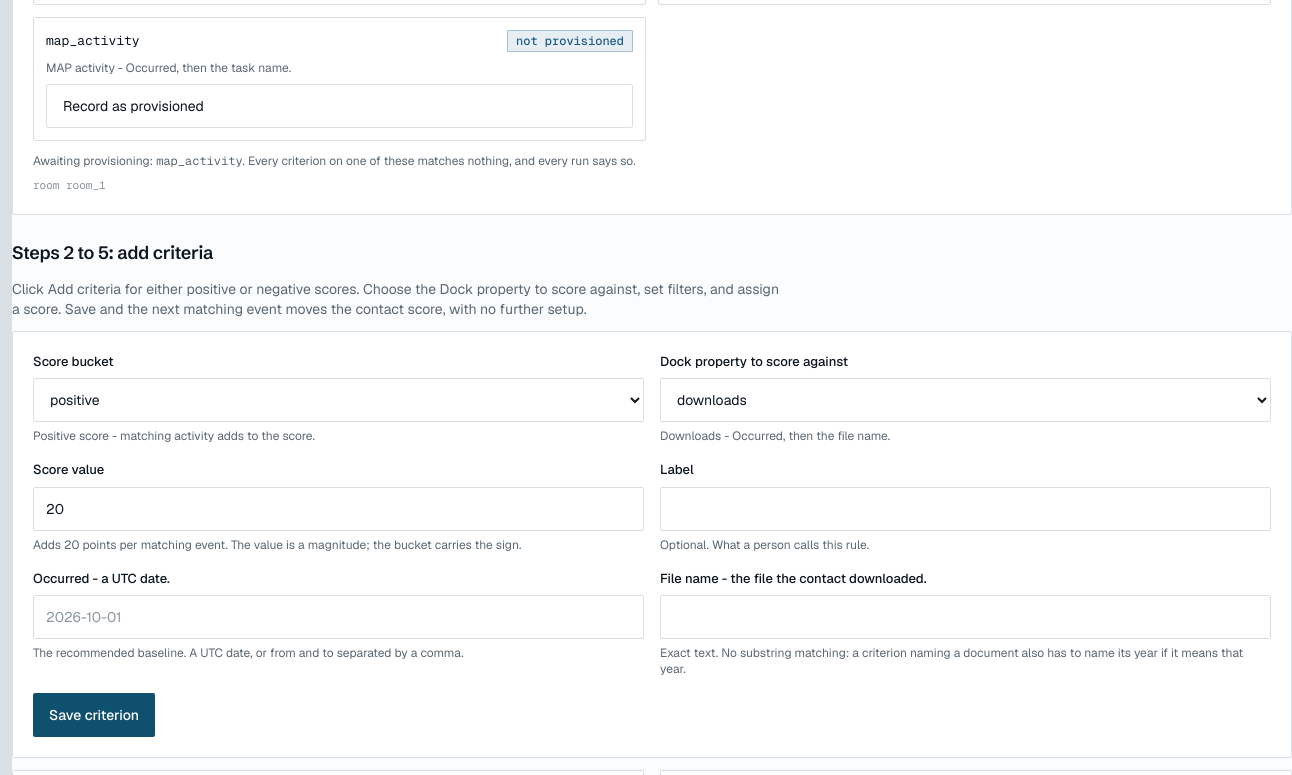
it: WF-029 lead score page › offers the second filter the property publishes and disables it when there is none
(page scrolled)
Expected: the field labelled "File name - the file the contact downloaded." is enabled, [660,595,1271,639]
Select "views" in the dropdown labelled "Dock property to score against" at (966, 400), box [660,378,1271,422]
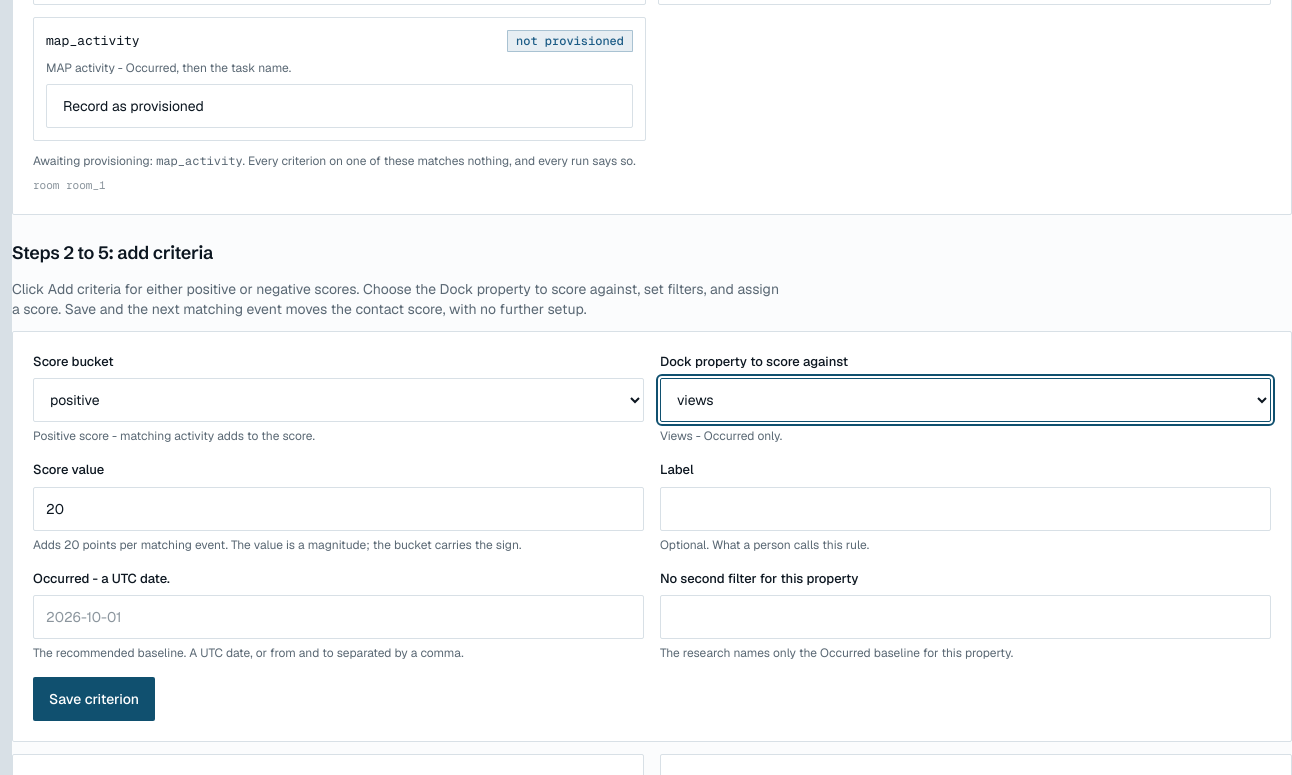
Expected: the field labelled "No second filter for this property" is disabled, [660,595,1271,639]
Result: the text "No second filter for this property" is shown at [660,570,858,587]
